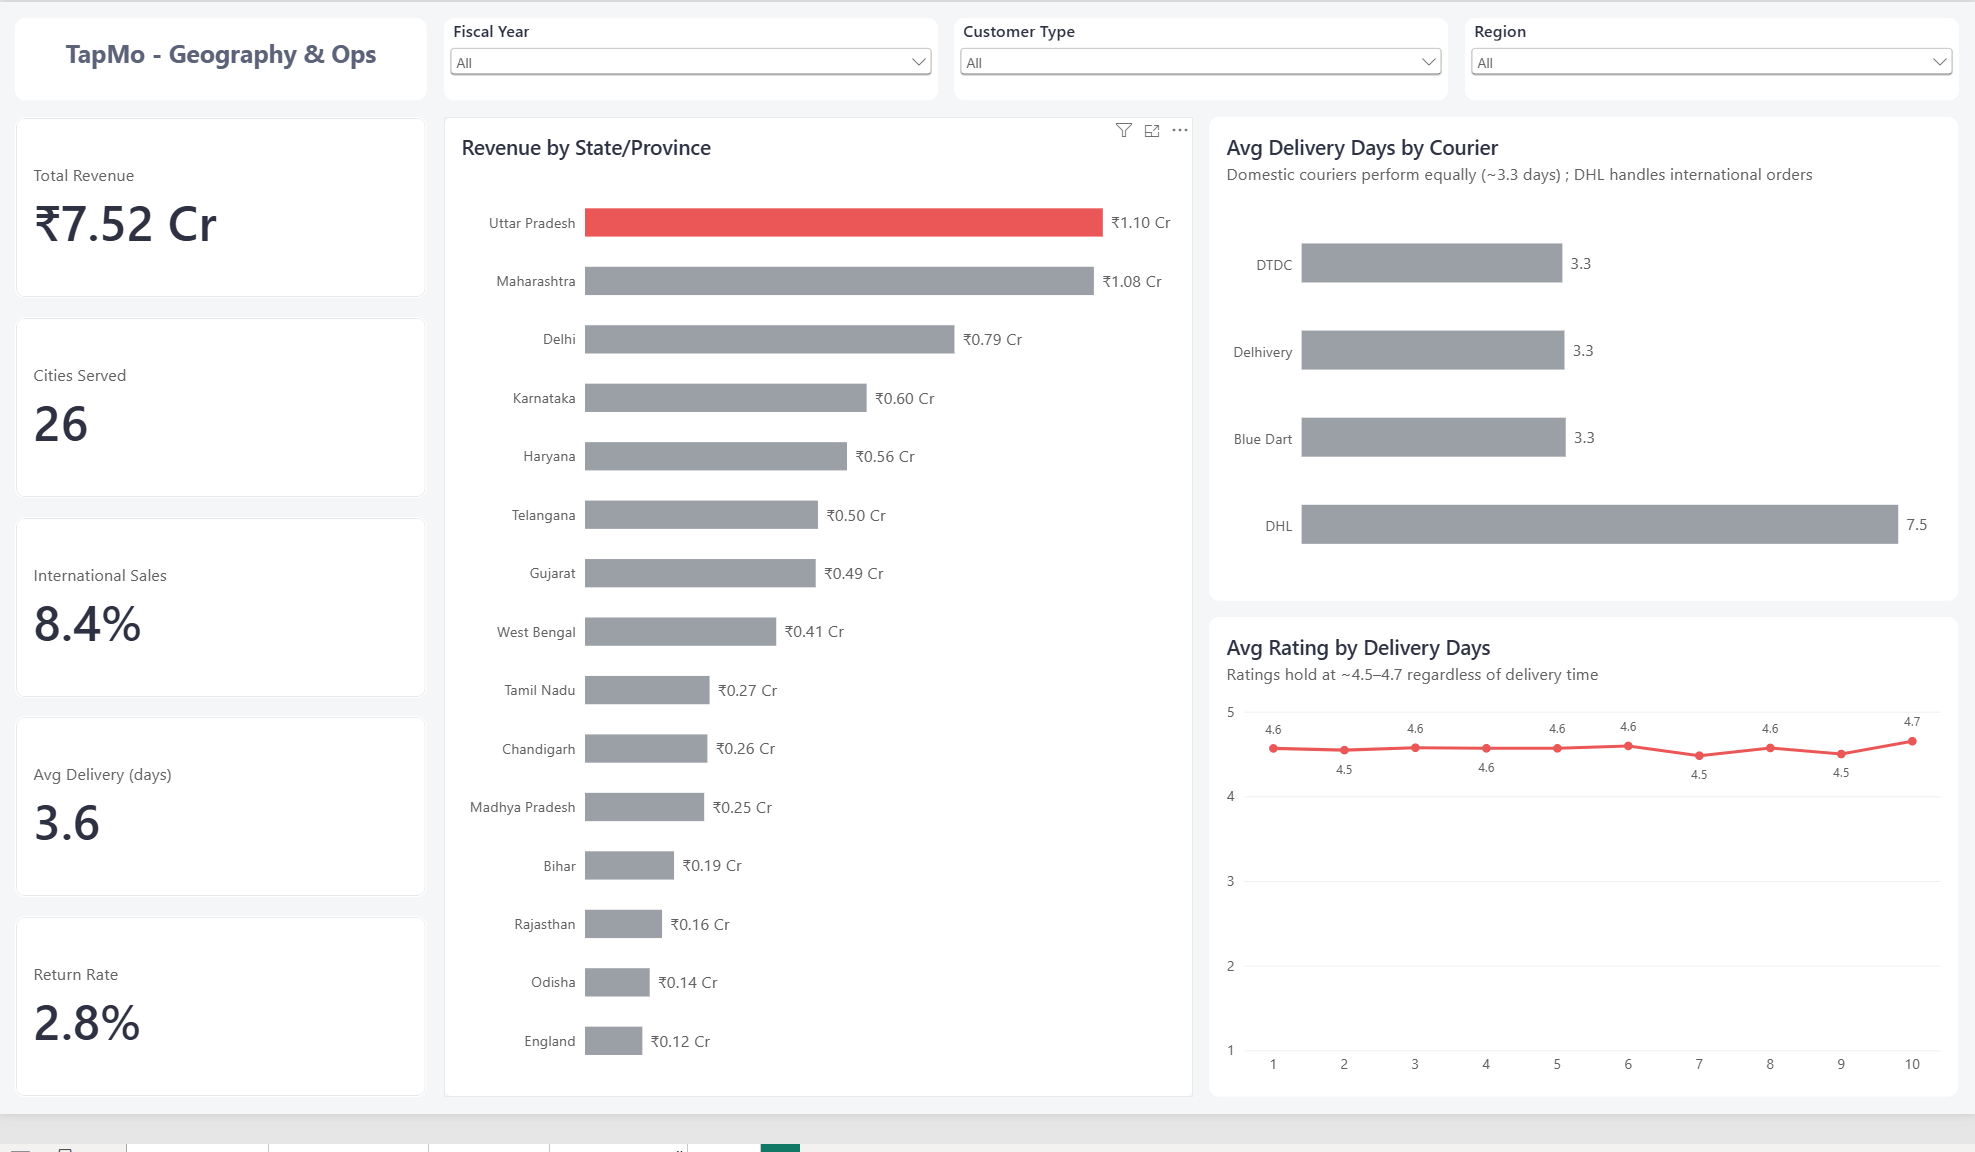

What the dashboard file says about the page in this screenshot:
{"tool":"powerbi","page":{"name":"Geography & Ops","canvas":[1920,1080],"ordinal":3},"visuals":[{"type":"textbox","box":[16,16,400,80],"z":0},{"type":"slicer","fields":{"Values":["tapmo dim_date.fiscal_year"]},"box":[432,16,480,80],"z":1000},{"type":"slicer","fields":{"Values":["tapmo dim_customer.customer_type"]},"box":[928,16,480,80],"z":2000},{"type":"slicer","fields":{"Values":["tapmo dim_customer.region"]},"box":[1424,16,480,80],"z":3000},{"type":"cardVisual","fields":{"Data":["_Measures.Revenue (Cr)"]},"box":[16,112,400,176],"z":4000},{"type":"cardVisual","fields":{"Data":["_Measures.Cities Served"]},"box":[16,306,400,176],"z":5000},{"type":"cardVisual","fields":{"Data":["_Measures.International Share %"]},"box":[16,500,400,176],"z":6000},{"type":"cardVisual","fields":{"Data":["_Measures.Avg Delivery Days"]},"box":[16,694,400,176],"z":7000},{"type":"cardVisual","fields":{"Data":["_Measures.Return Rate %"]},"box":[16,888,400,176],"z":8000},{"type":"clusteredBarChart","title":"Revenue by State/Province","fields":{"Category":["tapmo dim_customer.state"],"Y":["_Measures.Revenue (Cr)"]},"box":[432,112,728,952],"z":8001},{"type":"clusteredBarChart","title":"Avg Delivery Days by Courier","fields":{"Category":["tapmo vw_sales_clean.courier_partner"],"Y":["_Measures.Avg Delivery Days"]},"box":[1176,112,728,470],"z":8002},{"type":"lineChart","title":"Avg Rating by Delivery Days","fields":{"Category":["tapmo vw_sales_clean.delivery_days"],"Y":["_Measures.Avg Rating"]},"box":[1176,598,728,466],"z":8003}]}

Visuals, with their boxes on the page's 1920x1080 design canvas (x1, y1, x2, y2). These are canvas units, not pixel positions in the 1975x1152 screenshot, which may show the page scaled, cropped or inside an application window:
textbox: <bbox>16, 16, 416, 96</bbox>
slicer - tapmo dim_date.fiscal_year: <bbox>432, 16, 912, 96</bbox>
slicer - tapmo dim_customer.customer_type: <bbox>928, 16, 1408, 96</bbox>
slicer - tapmo dim_customer.region: <bbox>1424, 16, 1904, 96</bbox>
cardVisual - _Measures.Revenue (Cr): <bbox>16, 112, 416, 288</bbox>
cardVisual - _Measures.Cities Served: <bbox>16, 306, 416, 482</bbox>
cardVisual - _Measures.International Share %: <bbox>16, 500, 416, 676</bbox>
cardVisual - _Measures.Avg Delivery Days: <bbox>16, 694, 416, 870</bbox>
cardVisual - _Measures.Return Rate %: <bbox>16, 888, 416, 1064</bbox>
"Revenue by State/Province" clusteredBarChart: <bbox>432, 112, 1160, 1064</bbox>
"Avg Delivery Days by Courier" clusteredBarChart: <bbox>1176, 112, 1904, 582</bbox>
"Avg Rating by Delivery Days" lineChart: <bbox>1176, 598, 1904, 1064</bbox>
